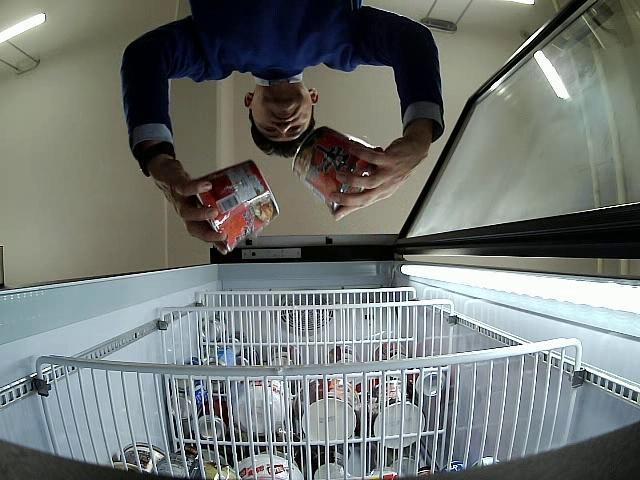01_ShinRamen_L: (292, 126, 383, 216), (192, 160, 280, 253)
